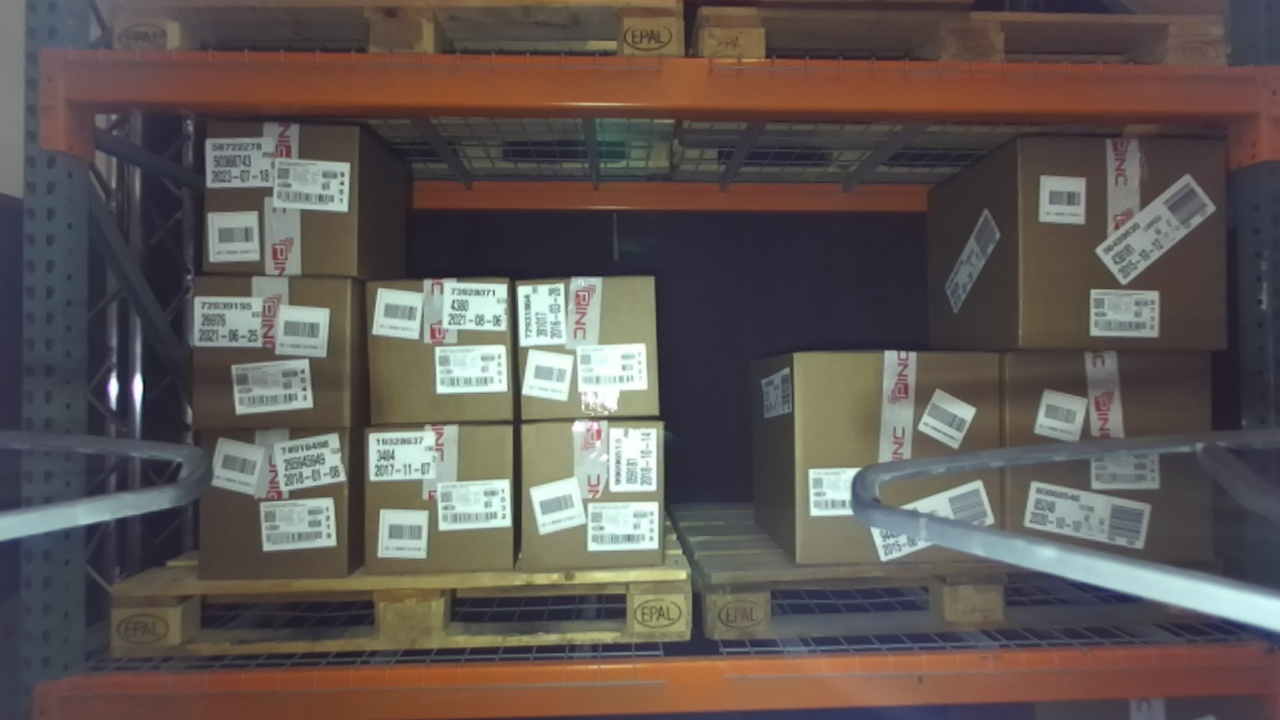box: (976, 325, 1240, 607), (991, 114, 1248, 360), (768, 334, 1011, 585), (181, 99, 377, 285), (174, 264, 375, 445), (502, 391, 681, 589), (175, 422, 377, 596), (346, 417, 527, 606), (494, 258, 680, 441), (348, 262, 535, 438)
